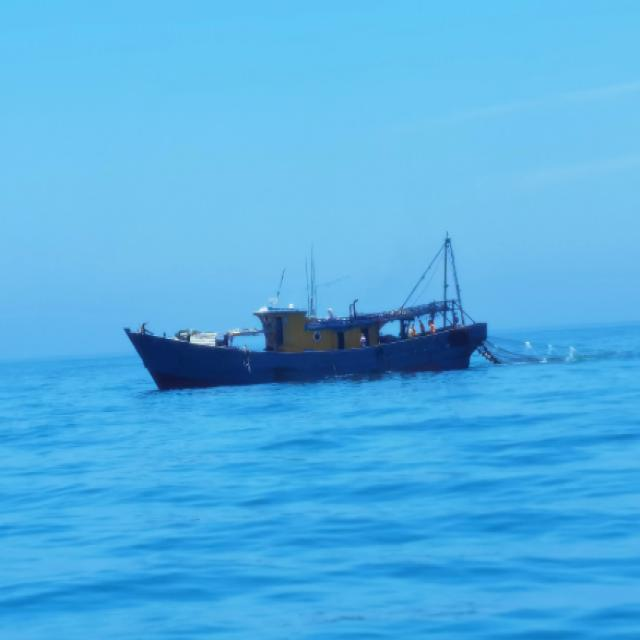fishing boat: (120, 234, 487, 394)
